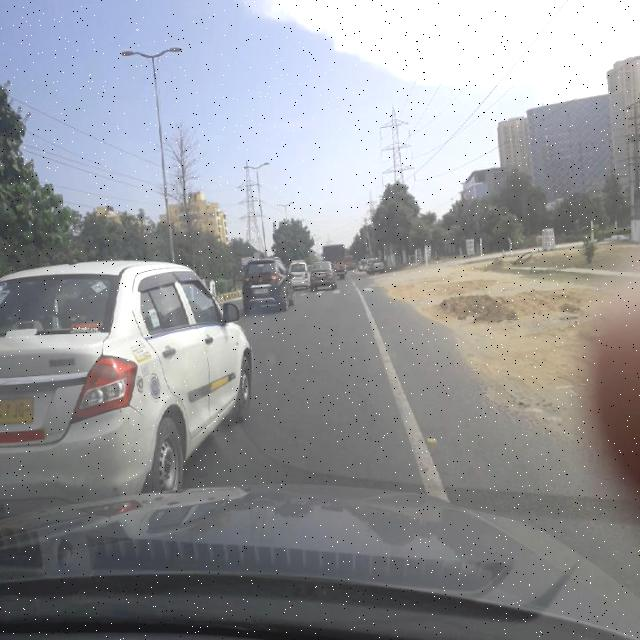D20: (255, 311, 434, 486)
